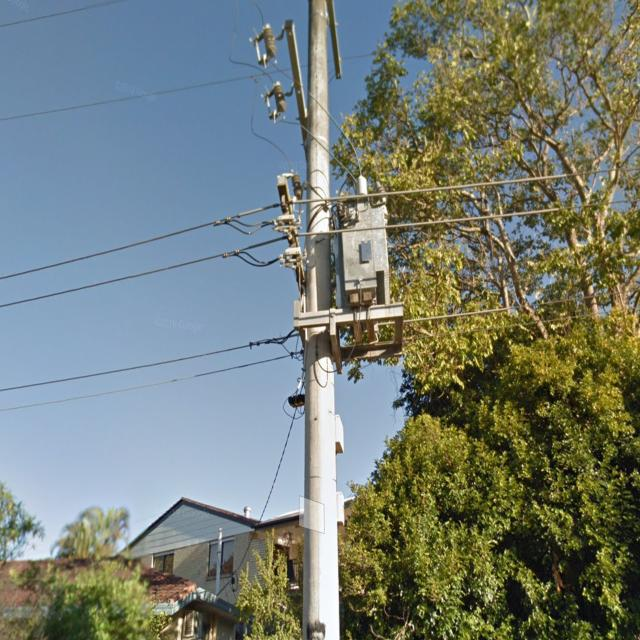HV-transmission: (253, 1, 344, 168)
LV link: (214, 214, 306, 348)
LV link box: (288, 394, 305, 408)
concrete-pole: (301, 0, 341, 640)
crossarm: (284, 20, 310, 154), (277, 171, 304, 296), (326, 0, 342, 80)
transformer: (332, 187, 388, 310)
